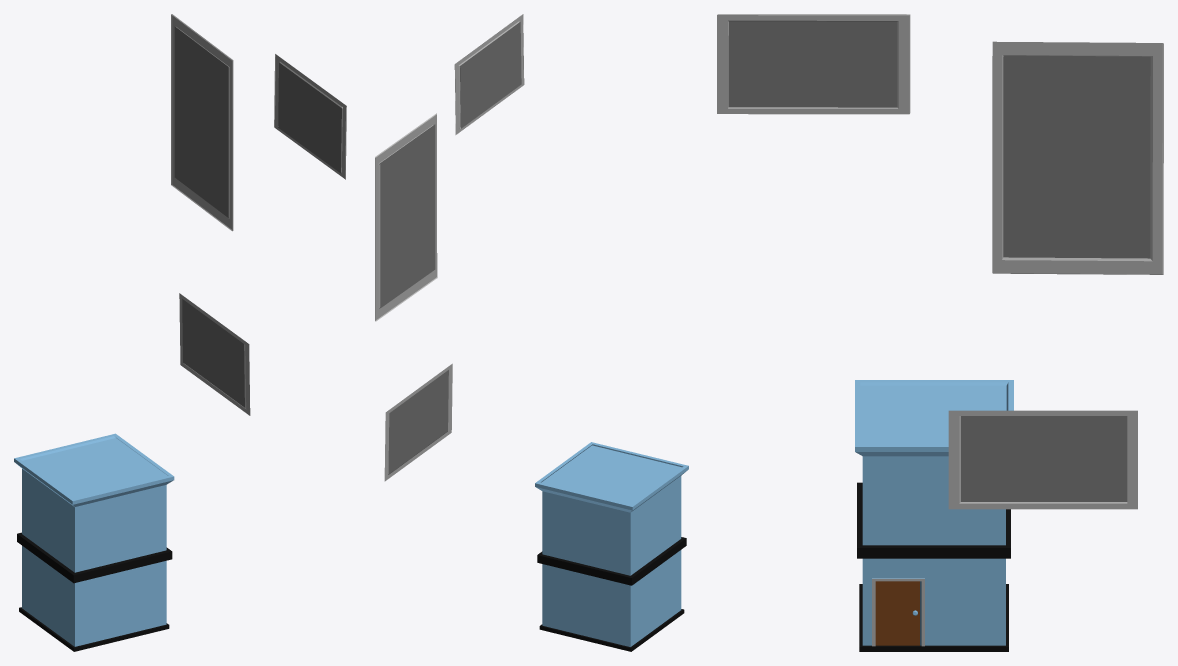
File: Huis2.fbx
3 renders of one model, left to right at view 1: azimuth 30°, elevation 25°; view 2: azimuth 150°, elevation 25°; view 3: azimuth 270°, elevation 25°, orthographic. The views are drawn at different scales.
Visible parts, largest first — view 1: Cube, Plane.001, Plane.002, Plane; view 2: Cube, Plane.001, Plane.002, Plane; view 3: Plane.001, Cube, Plane.002, Plane.
Boxes of the visible parts, bbox=[...] form: Cube: bbox=[14, 433, 174, 651]; Plane.001: bbox=[171, 14, 233, 231]; Plane.002: bbox=[274, 54, 346, 179]; Plane: bbox=[179, 293, 250, 415]; Cube: bbox=[535, 442, 688, 651]; Plane.001: bbox=[375, 113, 437, 321]; Plane.002: bbox=[454, 14, 524, 134]; Plane: bbox=[384, 363, 452, 481]; Plane.001: bbox=[992, 41, 1163, 274]; Cube: bbox=[855, 380, 1013, 651]; Plane.002: bbox=[717, 14, 910, 114]; Plane: bbox=[948, 410, 1137, 509].
Size of the model in its own units: 487 by 1107 by 622.
